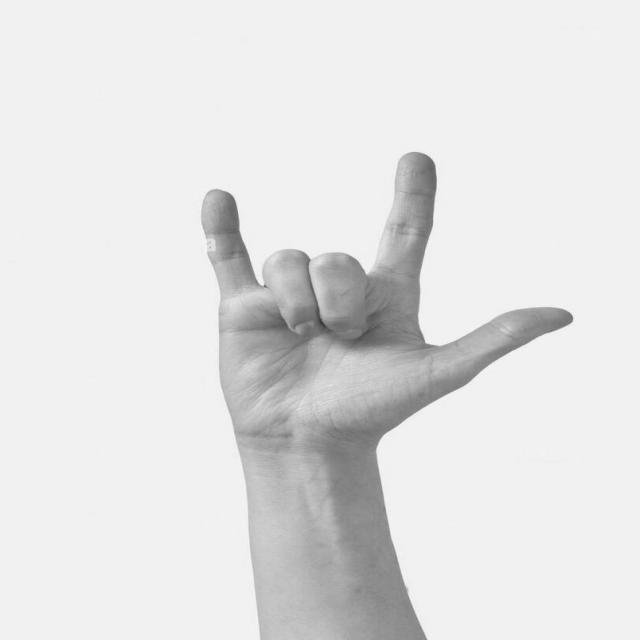i love you: (189, 141, 582, 479)
